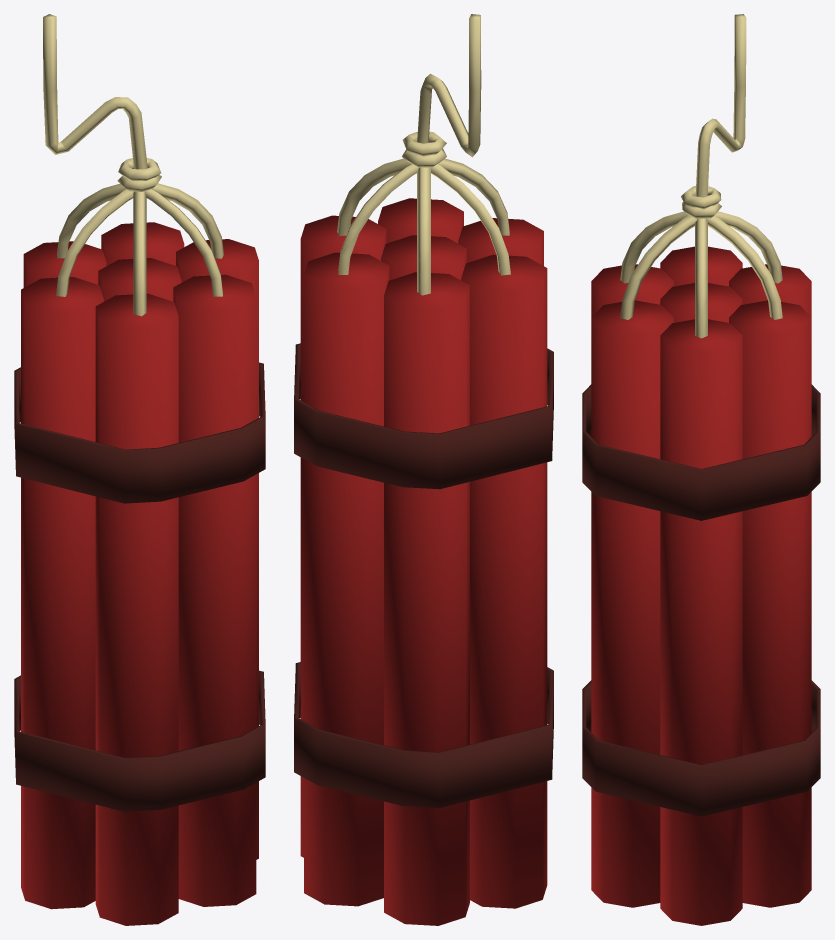
Rendered from dinamite.fbx.
3 views of the same model, side by side, from view 1: azimuth 30°, elevation 25°; view 2: azimuth 150°, elevation 25°; view 3: azimuth 270°, elevation 25° (orthographic). The views are drawn at different scales.
Visible parts, largest first — view 1: dynamite; view 2: dynamite; view 3: dynamite.
Boxes of the visible parts, box(x1,y1,x2,y2) form: dynamite: box(14, 14, 265, 925); dynamite: box(294, 14, 553, 925); dynamite: box(582, 14, 820, 925).
Bounding box in the file's own units: 160 × 528 × 139.
